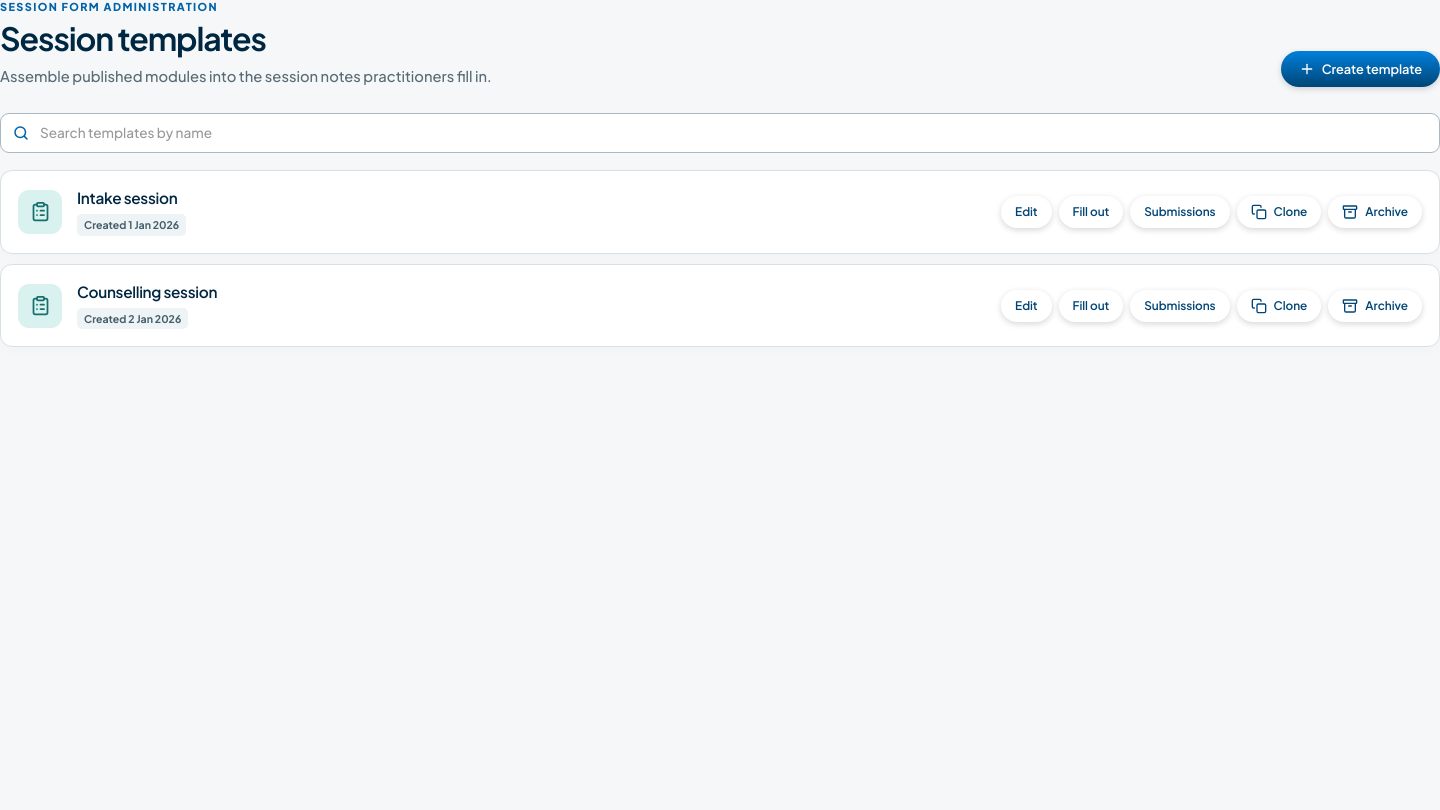
it: SessionTemplatesList › asks for confirmation before archiving a session template (US-8.6)
Expected: the heading "Intake session" is shown, 77,188 -> 177,208
Click the button "Archive" in the row of "1 Jan 2026" at (1375, 212), box 1328,196 -> 1422,228
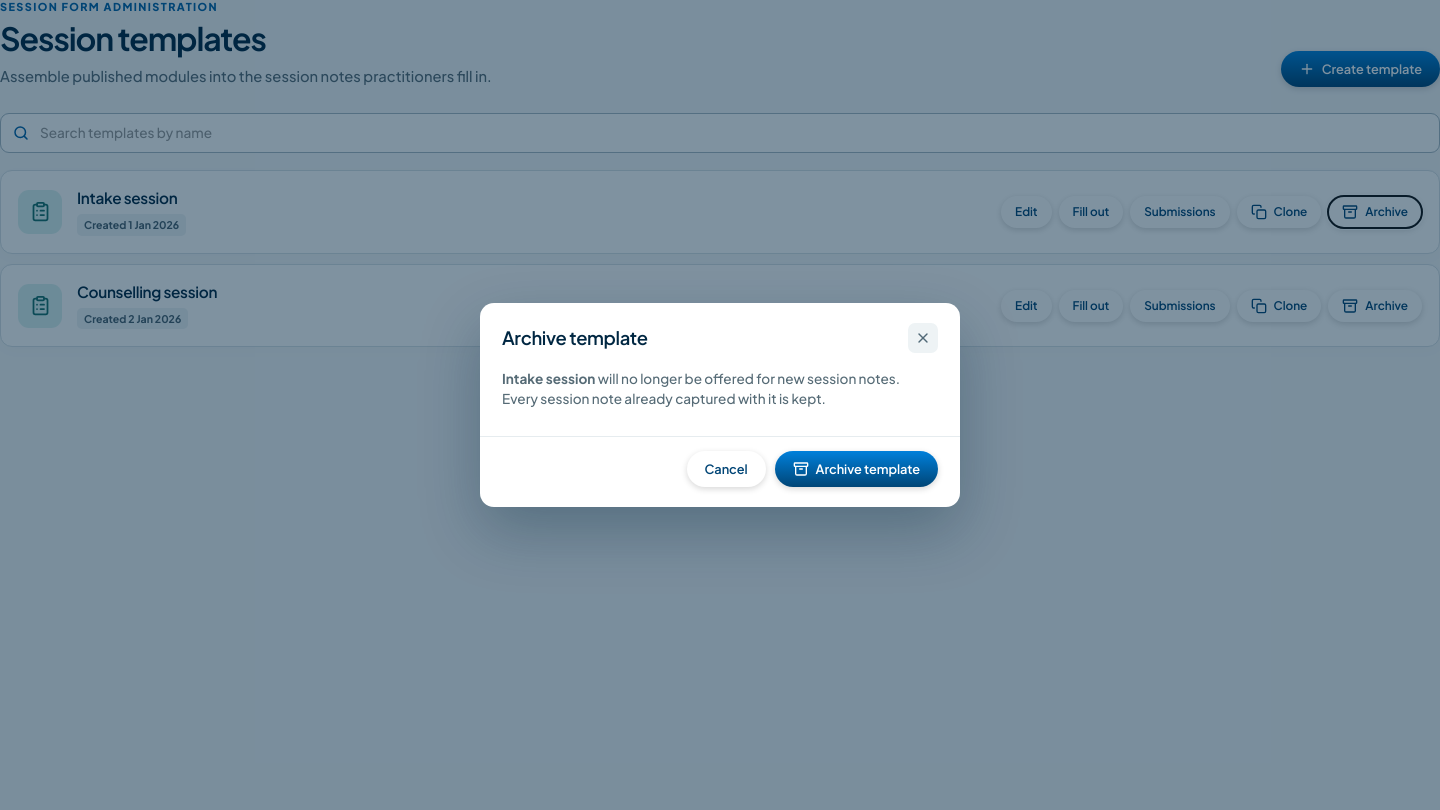
Click the button "Archive template" at (856, 469), box 775,451 -> 938,487
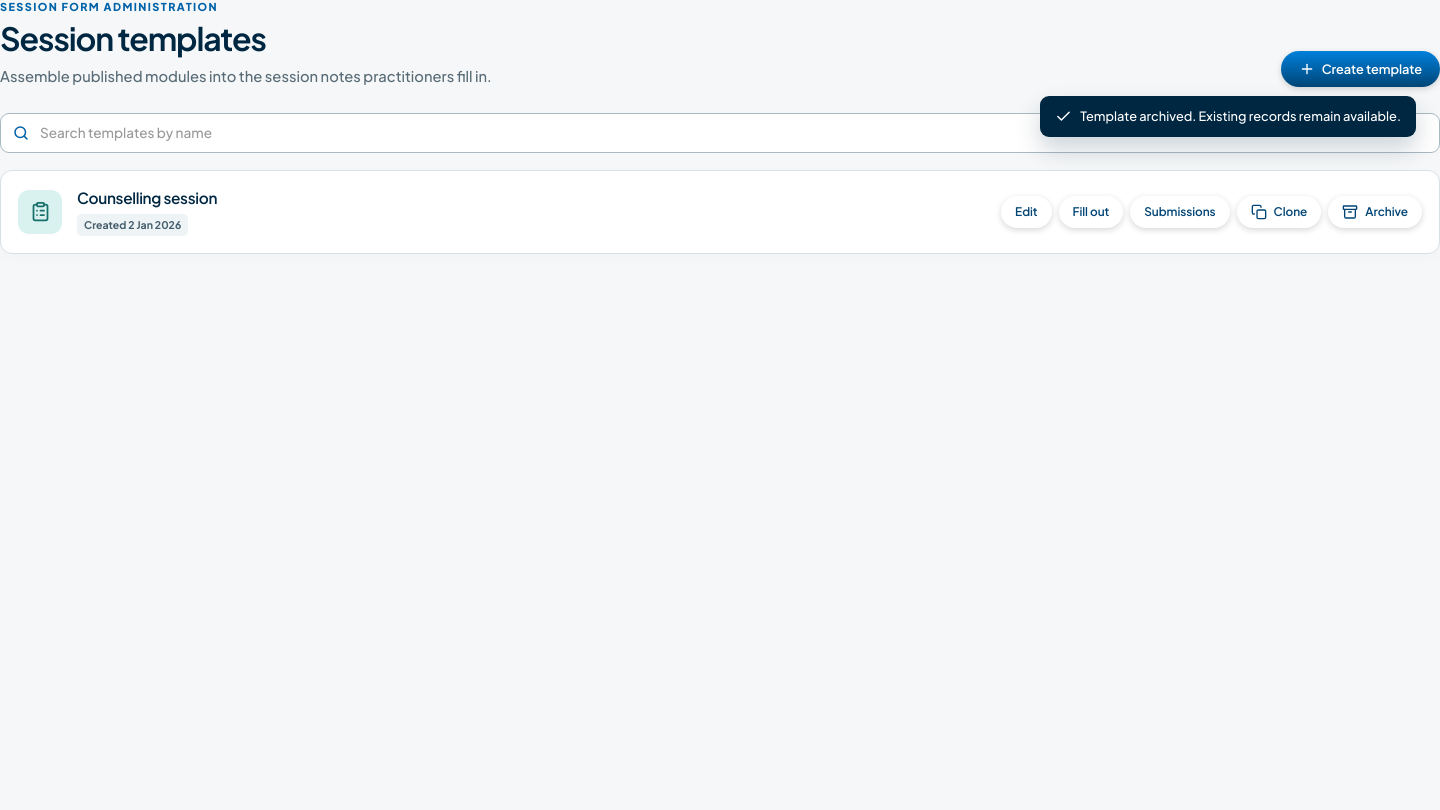
Now the heading "Intake session" is gone
